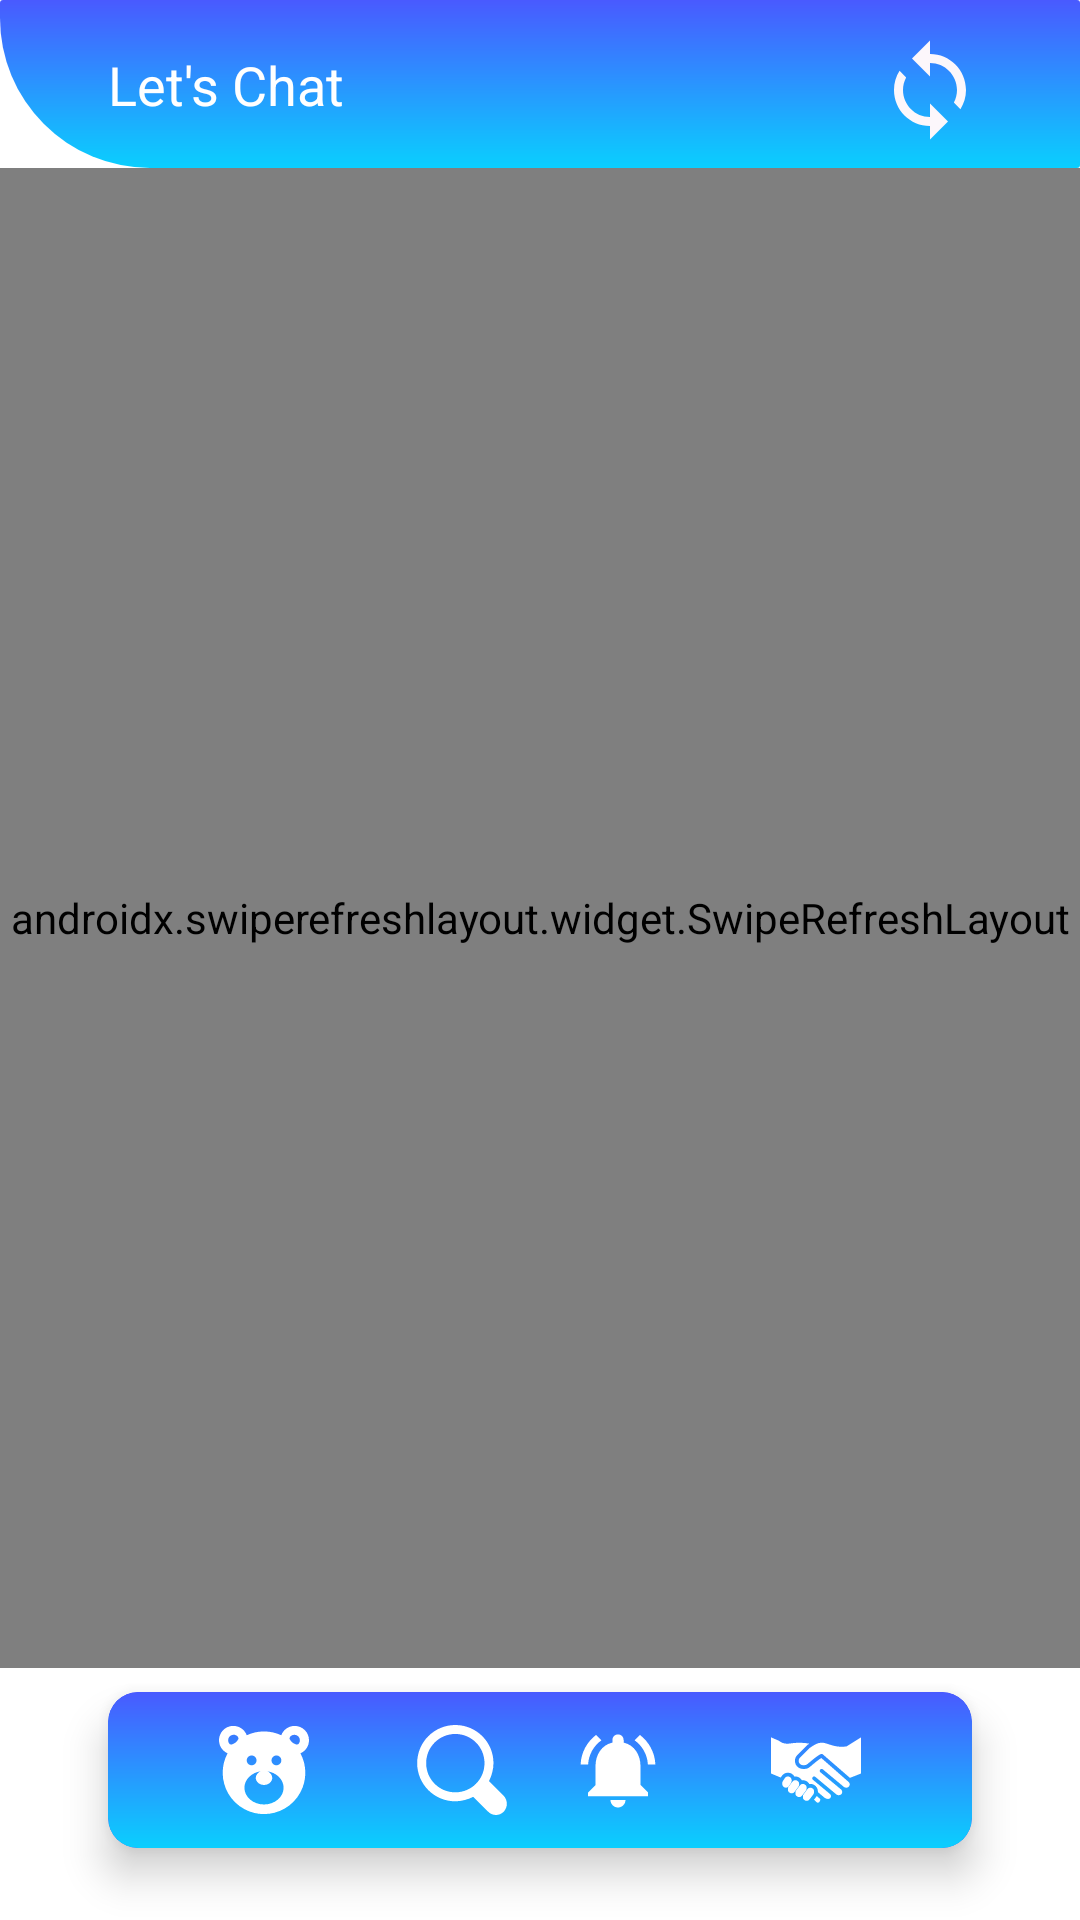

Icon click points for this 1080×1920 phone screenshot, format point (x, y):
friends: point (816, 1770)
notification: point (618, 1770)
search: point (462, 1770)
sync: point (930, 90)
